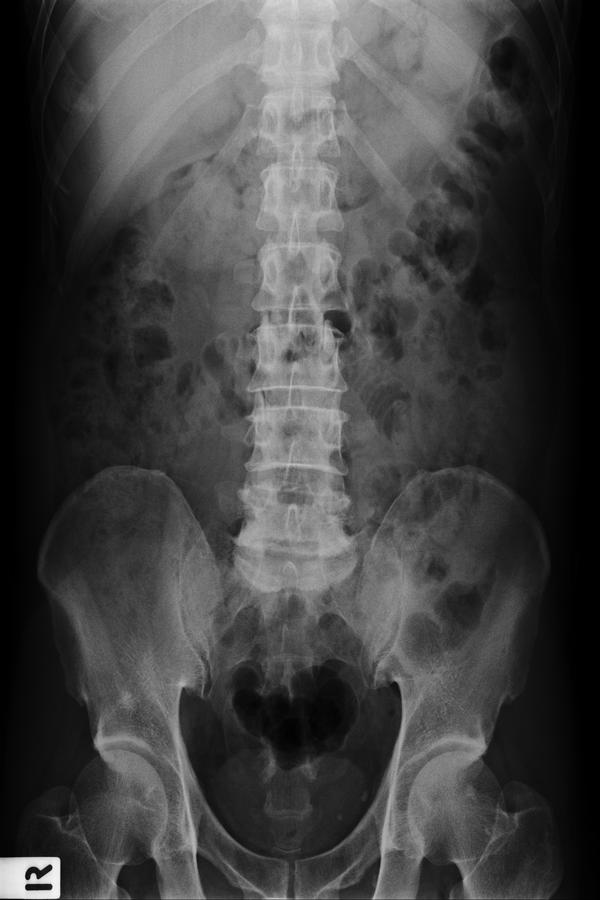not lumbar scoliosis: (231, 228, 350, 560)
